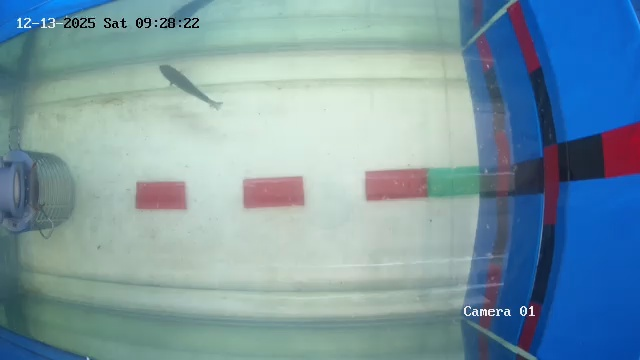fish: (155, 52, 222, 117)
